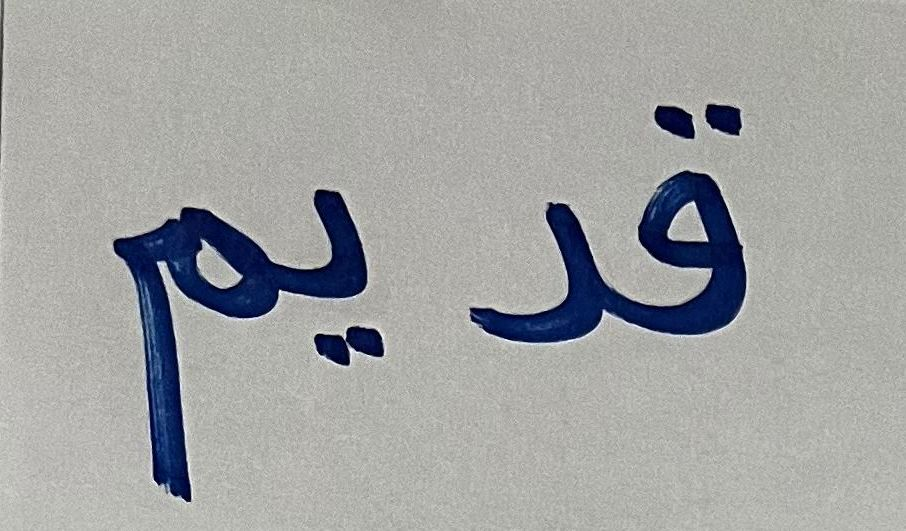dal: (441, 136, 605, 392)
meem: (95, 167, 282, 511)
qaf: (609, 52, 786, 377)
yeh: (287, 152, 415, 399)
